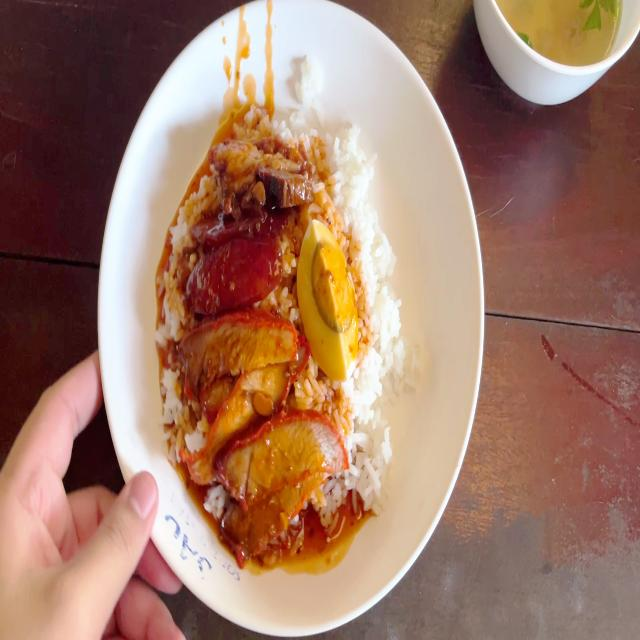boiled_egg: (306, 235, 345, 371)
chainese_sausage: (188, 207, 284, 301)
crispy_pork: (220, 136, 307, 203)
red_pork: (192, 319, 282, 483), (284, 422, 331, 512)
red_pork_and_crispy_pork: (175, 124, 396, 508)
rice: (358, 221, 398, 395), (340, 401, 406, 493), (309, 133, 376, 221)
